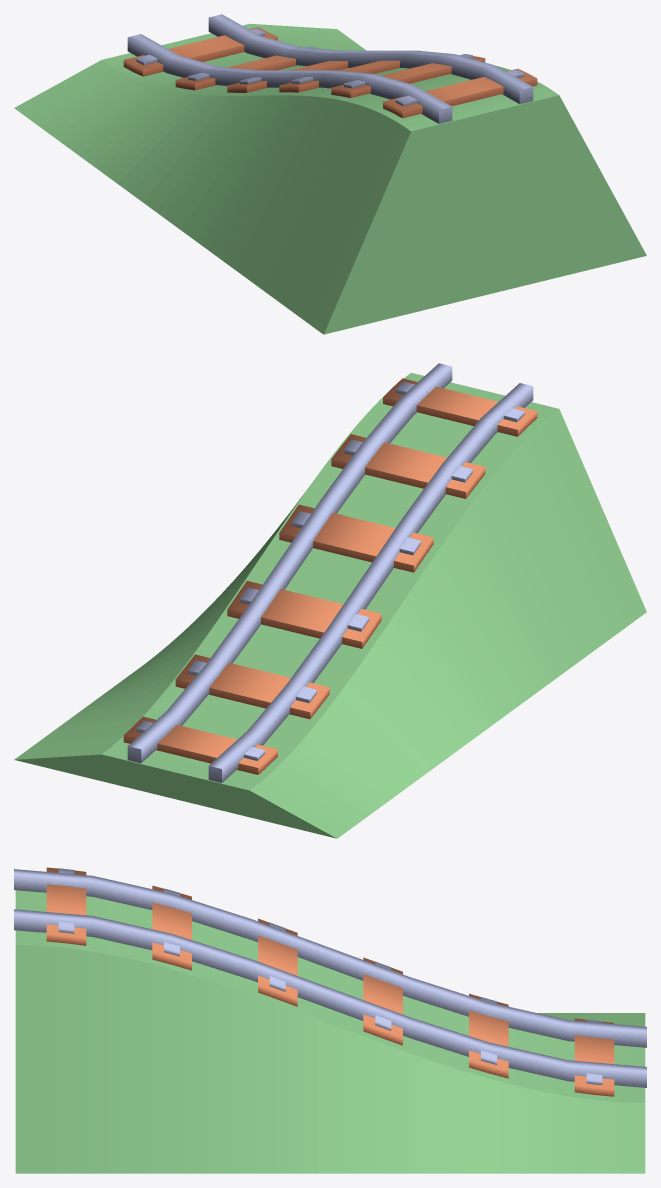
Rendered from hill-slope-down.glb.
3 views of the same model, one above another, from view 1: azimuth 30°, elevation 25°; view 2: azimuth 150°, elevation 25°; view 3: azimuth 270°, elevation 25° (orthographic).
Parts seen in each view (by area): view 1: hill_slope_down_mound, hill_slope_down_rails; view 2: hill_slope_down_mound, hill_slope_down_rails; view 3: hill_slope_down_mound, hill_slope_down_rails.
Boxes of the visible parts, x1,y1,x2,y2 form: hill_slope_down_mound: [14, 23, 646, 334]; hill_slope_down_rails: [123, 14, 537, 123]; hill_slope_down_mound: [14, 372, 646, 838]; hill_slope_down_rails: [123, 363, 537, 782]; hill_slope_down_mound: [15, 890, 645, 1173]; hill_slope_down_rails: [14, 867, 646, 1096].
Bounding box in the file's own units: 2.4 × 1.4 × 4.
2 materials, 1 textured.
